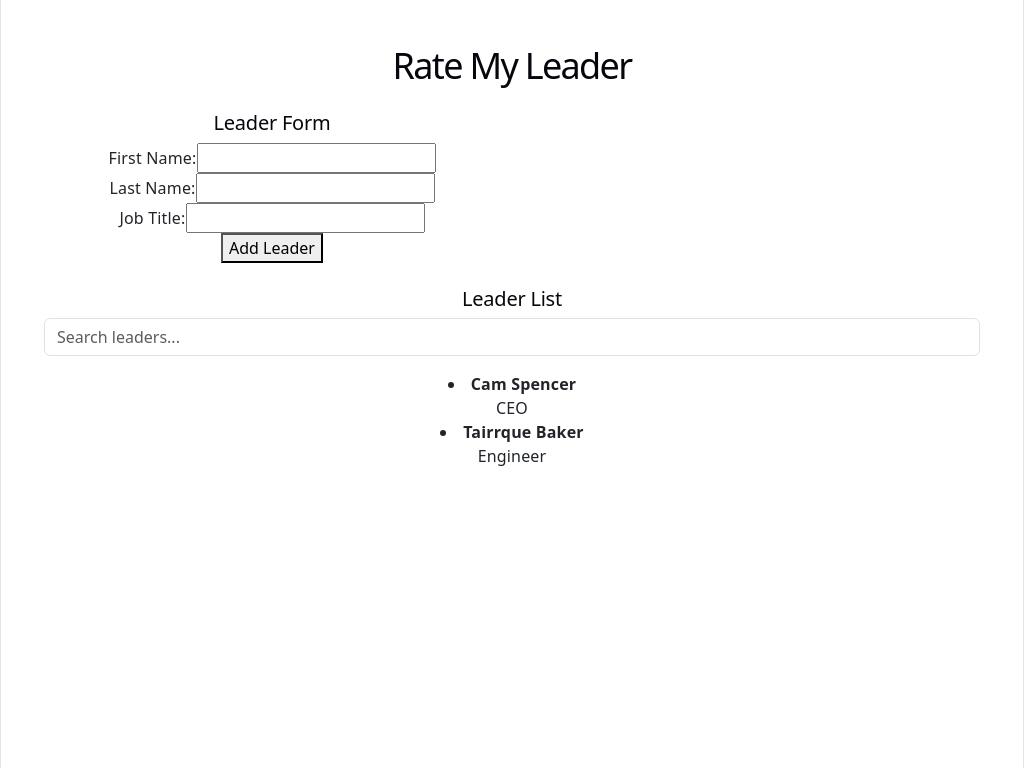
Leader Page › should filter leaders based on search input
expect the text "Cam Spencer" is shown: met, box [471,373,576,395]
Type "Cam" into the field with placeholder "Search leaders...".
click(512, 337); type("Cam")  # box [44,318,980,356]
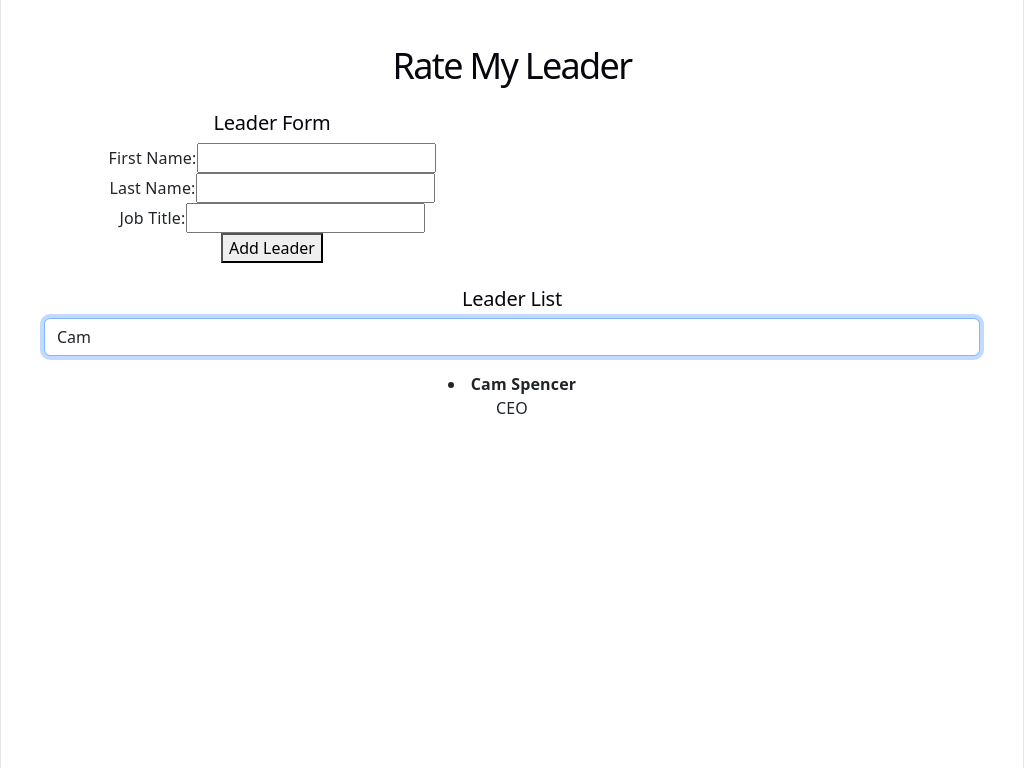
expect the text "Cam Spencer" is shown: met, box [471,373,576,395]
expect the text "Tairrque Baker" is gone: met
